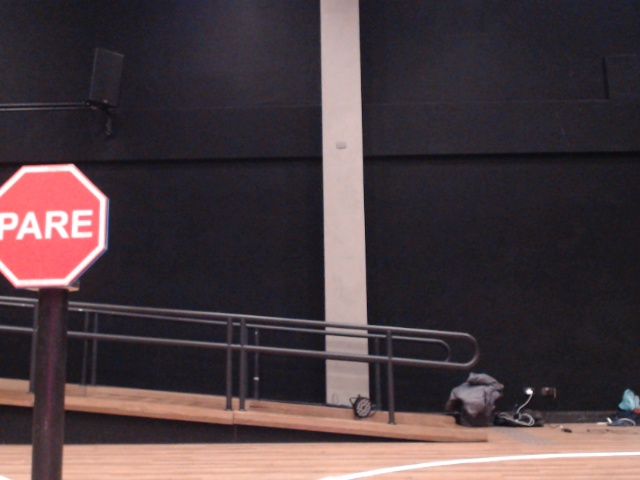SEMAFORO: (0, 146, 153, 324)
